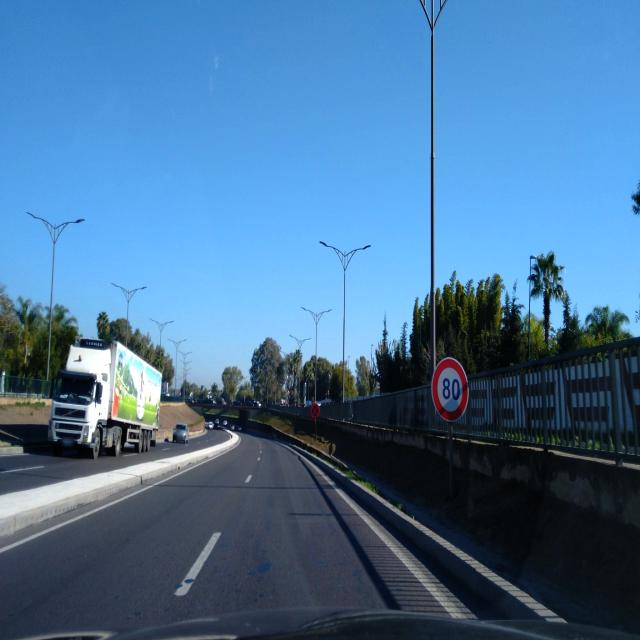car: (172, 423, 189, 443)
